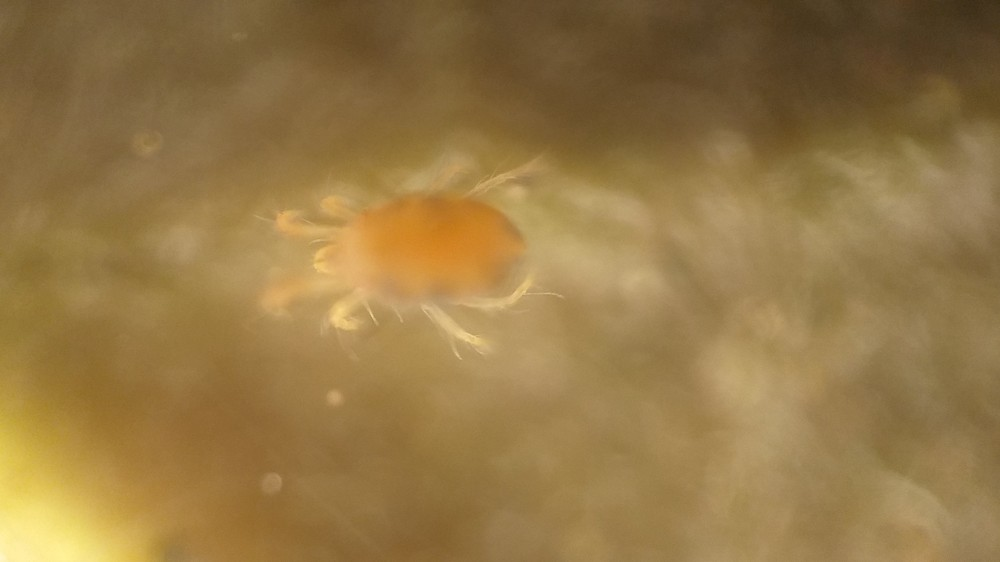Aracnido Rojo: (245, 132, 575, 374)
